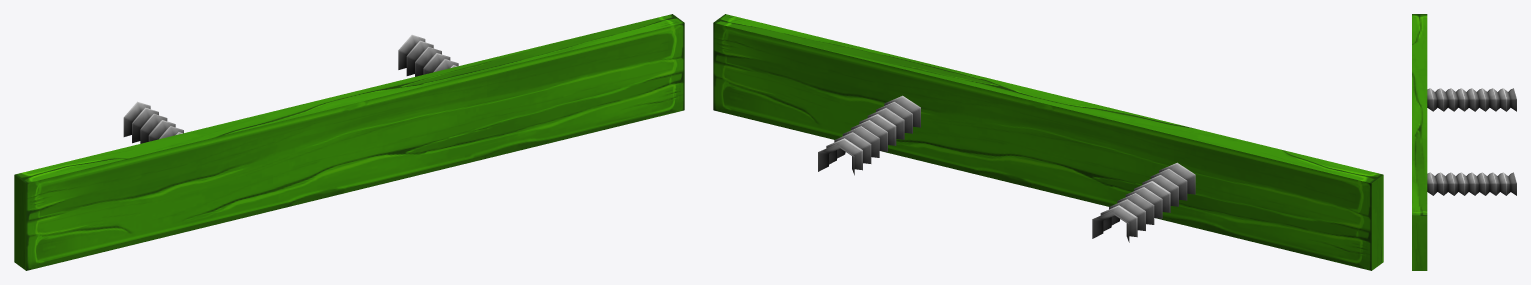
Rendered from wall_green_04.fbx.
3 renders of one model, left to right at view 1: azimuth 30°, elevation 25°; view 2: azimuth 150°, elevation 25°; view 3: azimuth 270°, elevation 25°, orthographic. The views are drawn at different scales.
Visible parts, largest first — view 1: wall_green_04; view 2: wall_green_04; view 3: wall_green_04.
Boxes of the visible parts, x1,y1,x2,y2 form: wall_green_04: [14, 14, 684, 270]; wall_green_04: [713, 14, 1383, 270]; wall_green_04: [1412, 14, 1516, 270].
Bounding box in the file's own units: 315 × 40 × 69.12.
